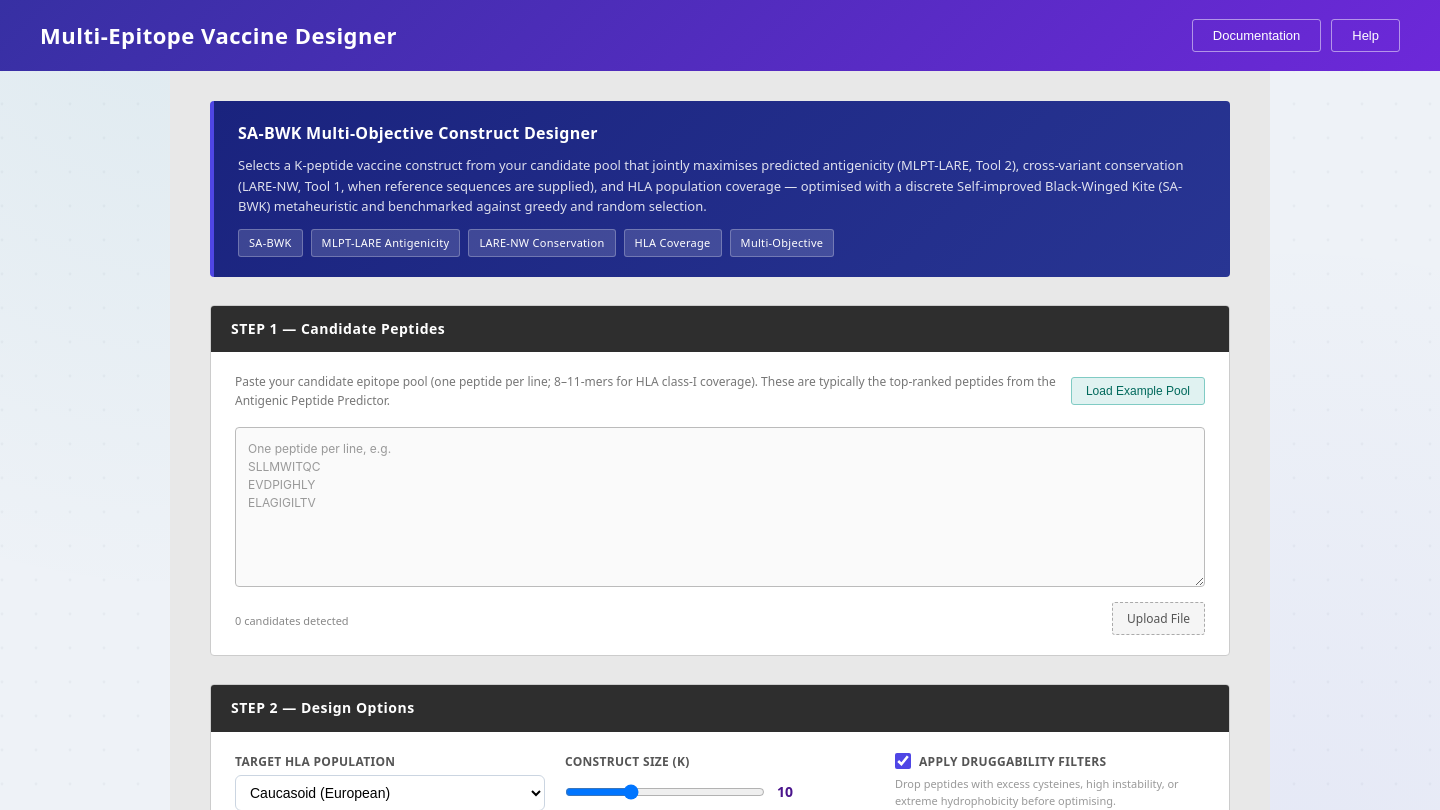
VaccineDesignerPage › loads the example pool and counts candidates
Click the button "Load Example Pool".
click(1138, 391)  # box [1071,377,1205,405]
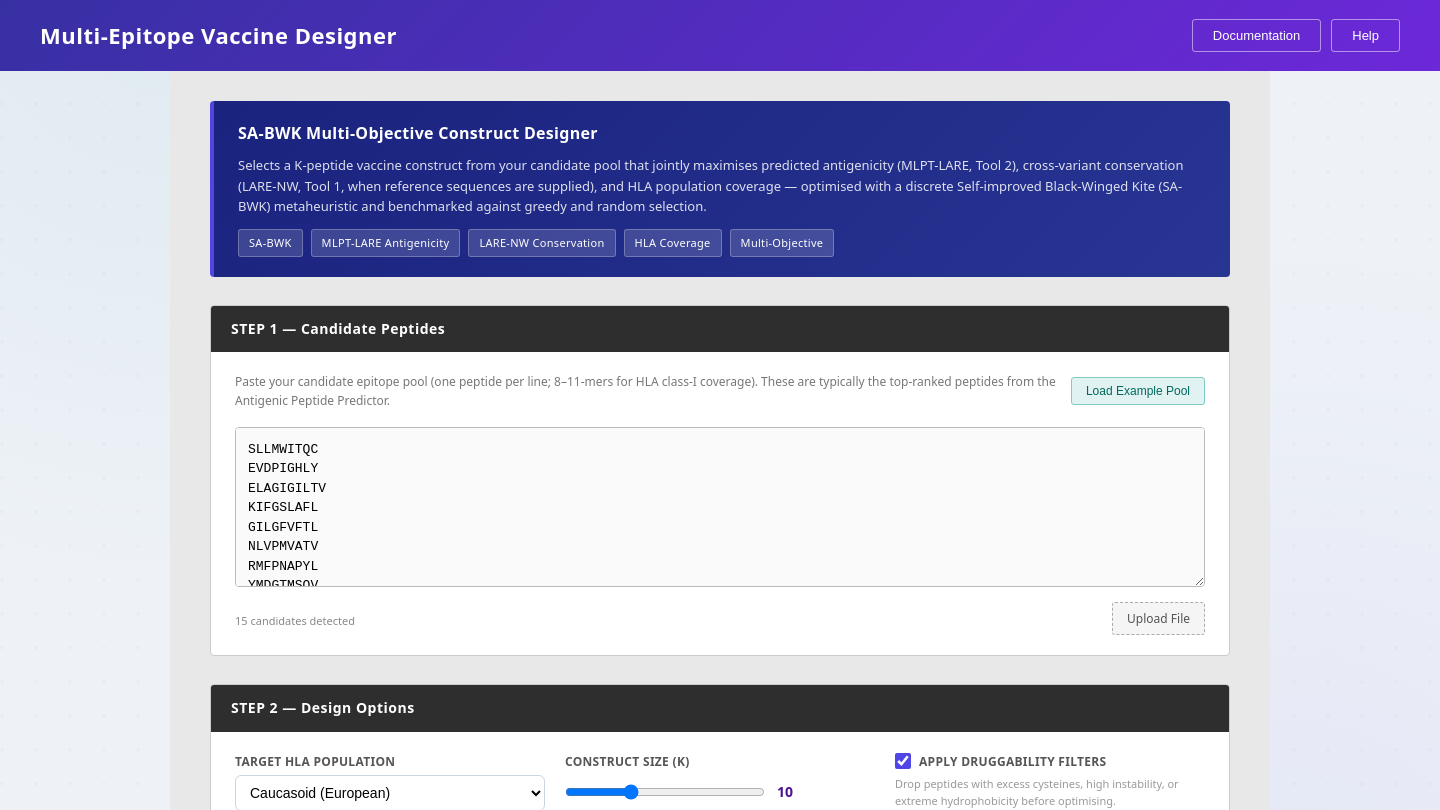
Now the text "15 candidates detected" is shown, box [235,612,355,630]
